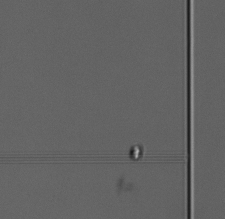Living Cell: (128, 142, 144, 160)
